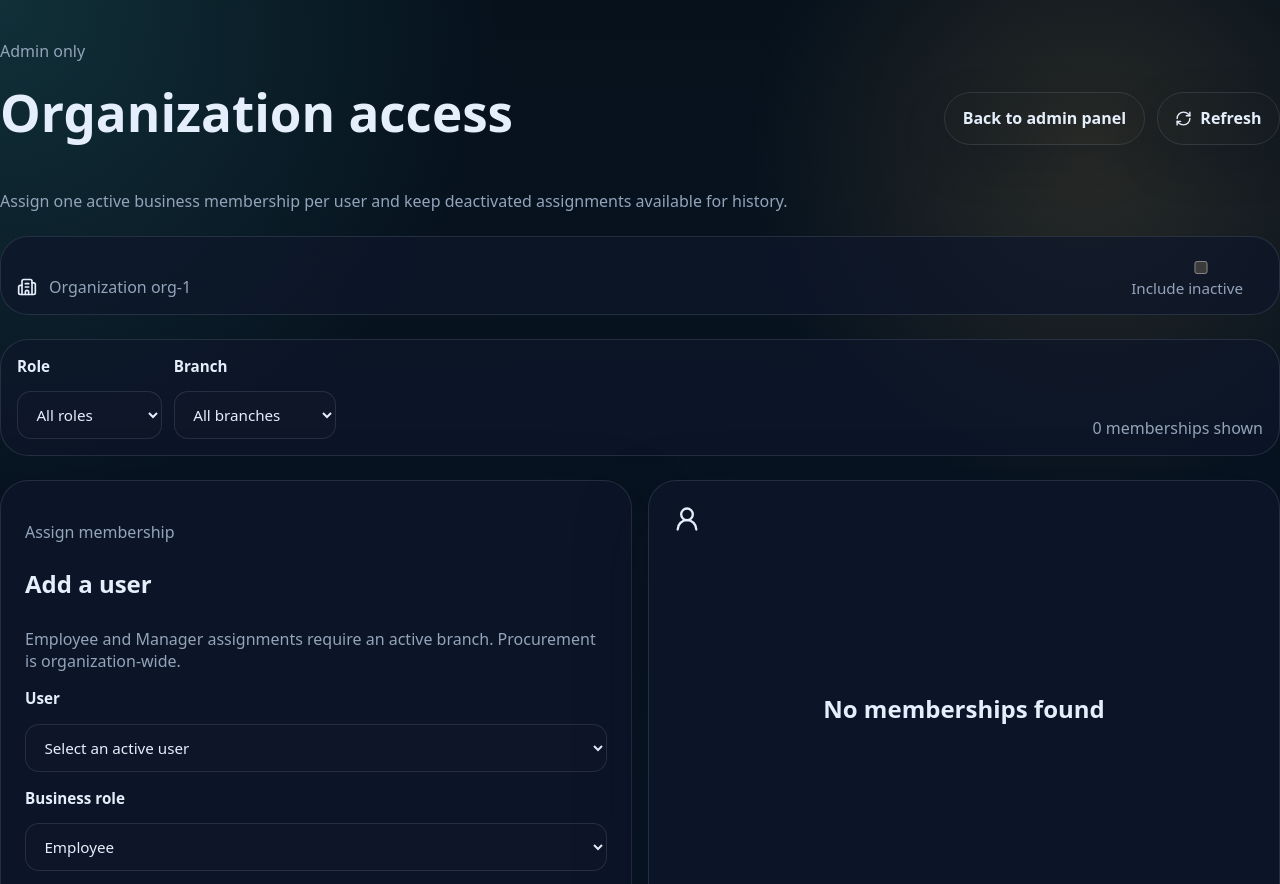
Test: OrganizationMemberships page › keeps a conflict message visible when the backend rejects a duplicate assignment
Expected: the heading "No memberships found" is shown, x1=823 y1=692 x2=1105 y2=725
Select "Alex Employee - employee@example.com" in the dropdown labelled "User" at [316, 748], box x1=25 y1=724 x2=607 y2=772
(page scrolled)
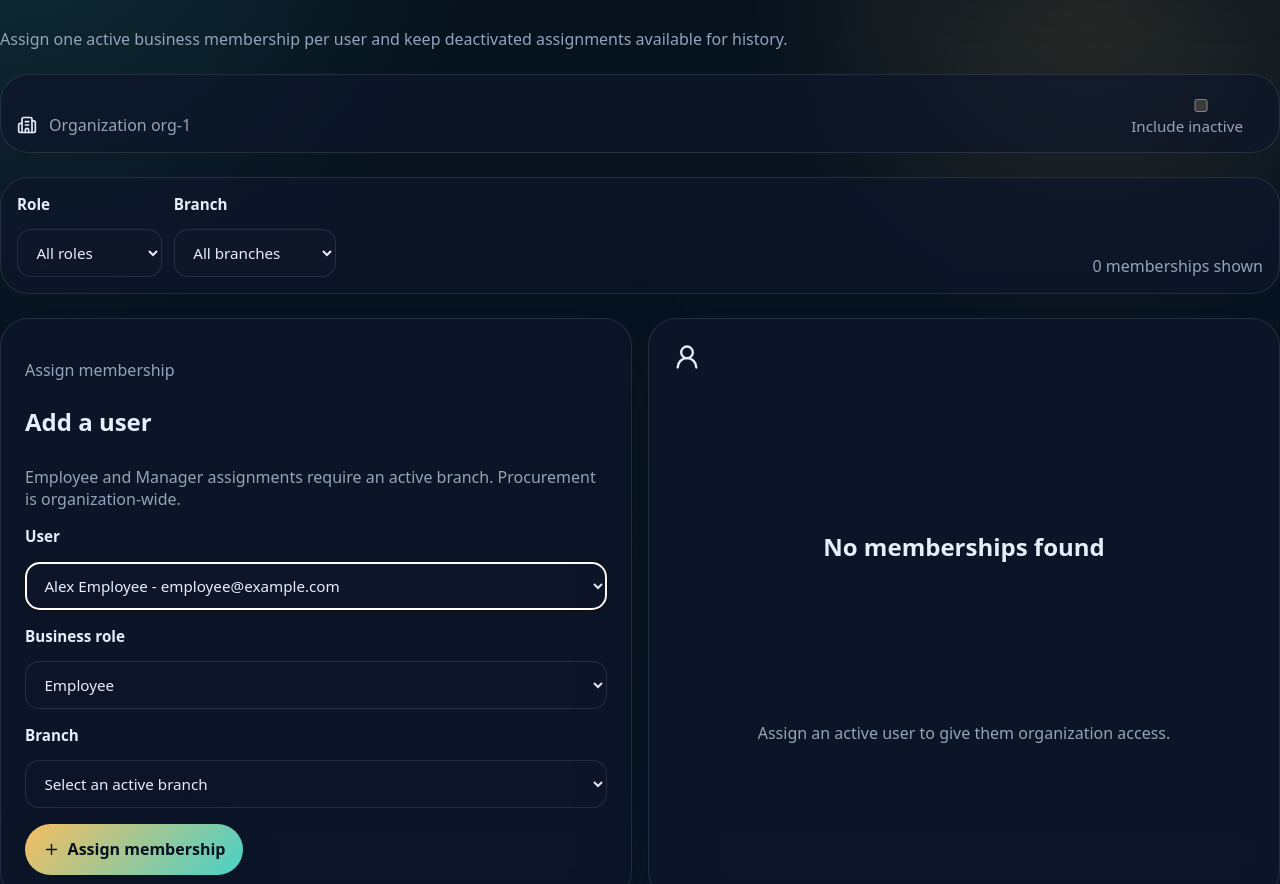
Select "Warsaw branch (WAW)" in the dropdown labelled "Branch" below "Business role" at [316, 784], box x1=25 y1=760 x2=607 y2=808
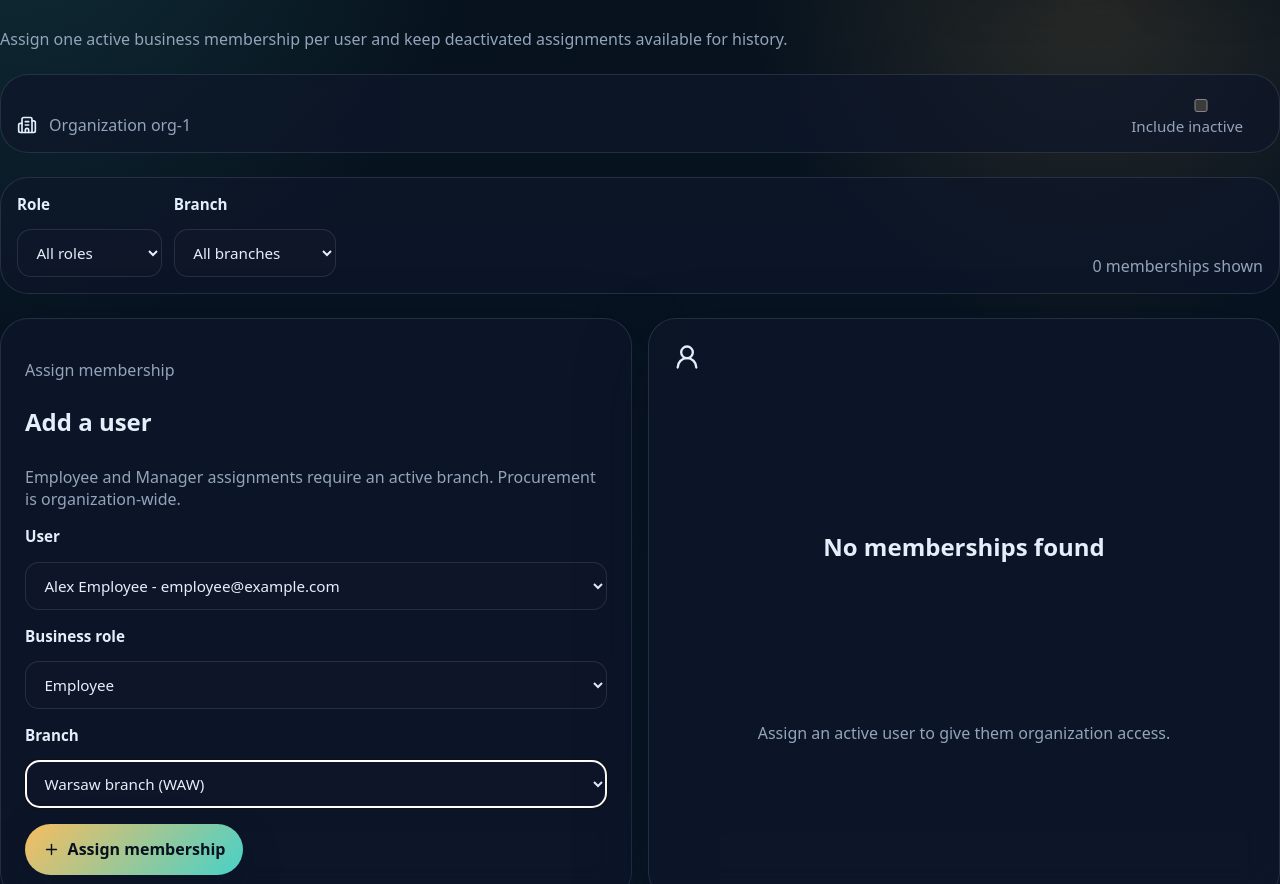
Click the button "Assign membership".
click(134, 849)  # box x1=25 y1=824 x2=243 y2=875
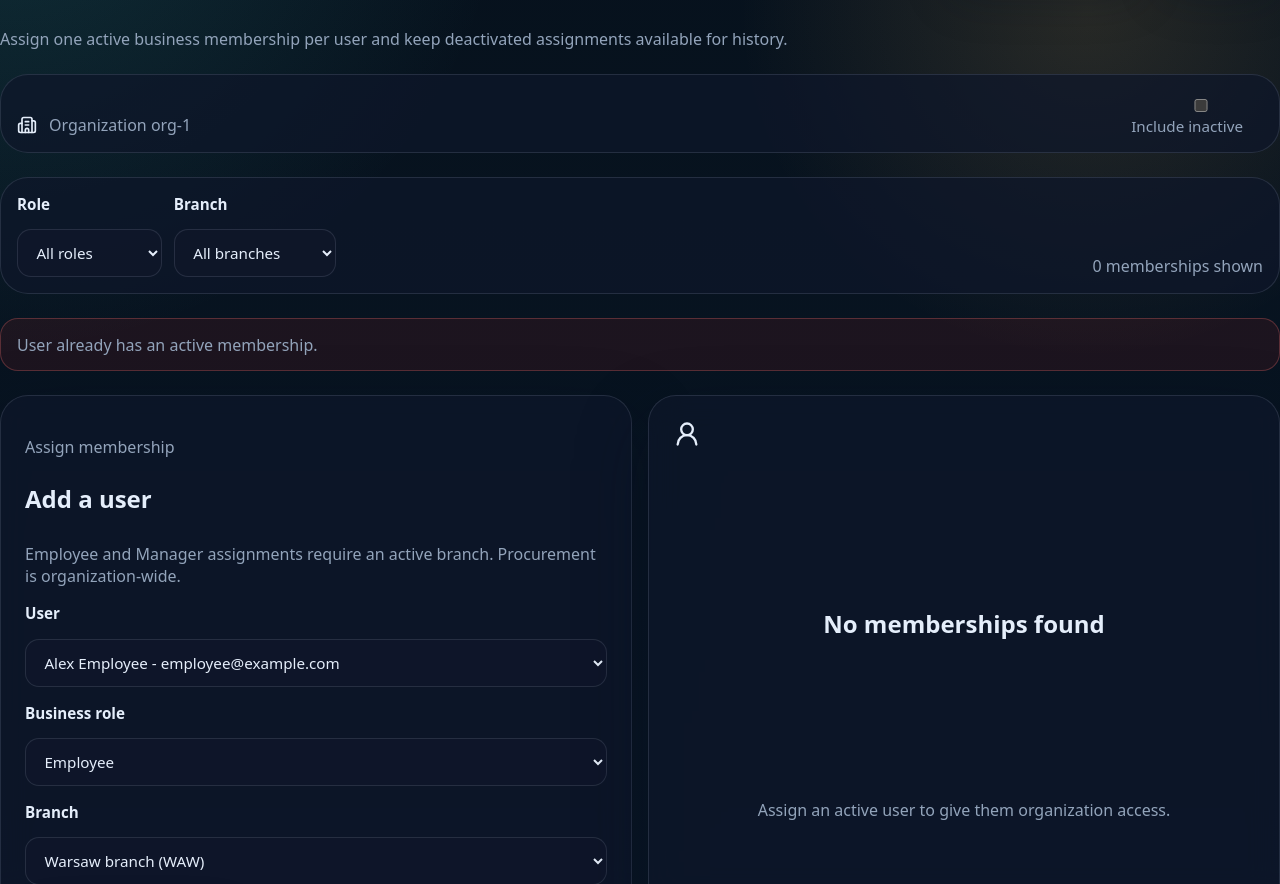
Result: the message reads "User already has an active membership." at x1=17 y1=334 x2=318 y2=356
